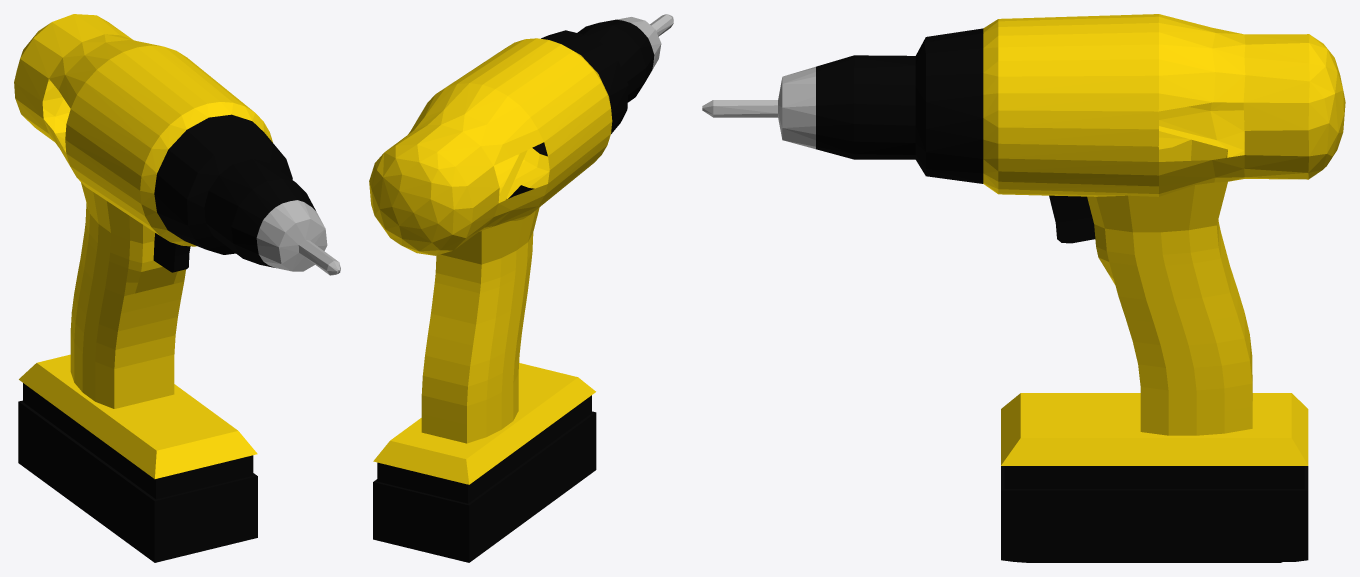
The model's file is driver_evan.fbx.
3 renders of one model, left to right at view 1: azimuth 30°, elevation 25°; view 2: azimuth 150°, elevation 25°; view 3: azimuth 270°, elevation 25°, orthographic. The views are drawn at different scales.
Parts seen in each view (by area): view 1: Cube; view 2: Cube; view 3: Cube.
Part boxes in pixels (x1,y1,x2,y2): Cube: (14, 14, 340, 562); Cube: (369, 14, 673, 562); Cube: (702, 14, 1345, 562).
Size of the model in its own units: 1233 by 3812 by 4272.
